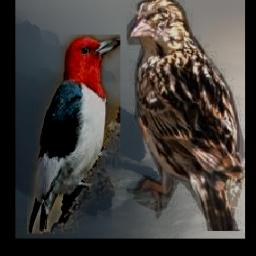Sparrow: (127, 0, 245, 232)
Woodpecker: (27, 36, 120, 235)
